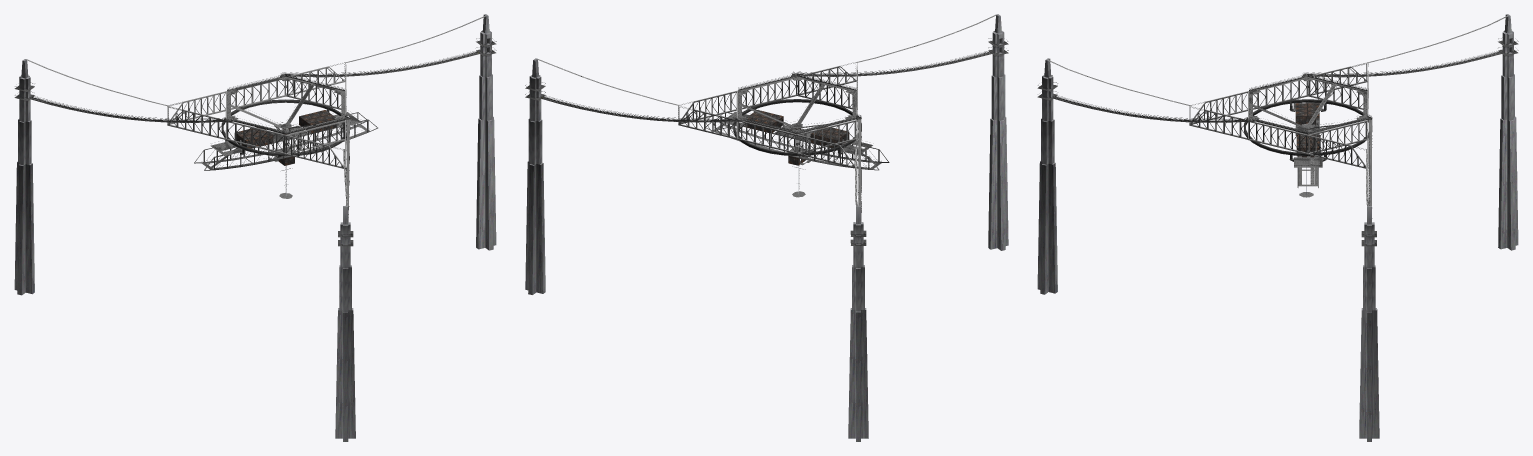
Rendered from cradle.glb.
3 views of the same model, side by side, from view 1: azimuth 30°, elevation 25°; view 2: azimuth 150°, elevation 25°; view 3: azimuth 270°, elevation 25° (orthographic).
Parts seen in each view (by area): view 1: primary_Room13, primary_Room14, primary_Room15, secondary_Room23, secondary_Room24, secondary_Room17, secondary_Room20, secondary_Room21, primary_Room0B, primary_Room0D, secondary_Room1E, secondary_Room1D (+2 smaller); view 2: primary_Room15, primary_Room13, primary_Room14, secondary_Room24, secondary_Room22, secondary_Room16, secondary_Room1D, secondary_Room1F, secondary_Room1C, secondary_Room20, primary_Room24, primary_Room0B (+2 smaller); view 3: primary_Room15, primary_Room14, primary_Room13, secondary_Room22, secondary_Room23, secondary_Room18, secondary_Room1F, secondary_Room1E, secondary_Room21, primary_Room0E, secondary_Room1C, primary_Room22 (+3 smaller).
Boxes of the visible parts, bbox=[...] form: primary_Room13: bbox=[476, 14, 496, 250]; primary_Room14: bbox=[14, 59, 34, 295]; primary_Room15: bbox=[335, 206, 355, 441]; secondary_Room23: bbox=[26, 59, 233, 122]; secondary_Room24: bbox=[279, 15, 485, 76]; secondary_Room17: bbox=[167, 93, 225, 138]; secondary_Room20: bbox=[286, 117, 344, 152]; secondary_Room21: bbox=[226, 119, 285, 152]; primary_Room0B: bbox=[234, 127, 273, 148]; primary_Room0D: bbox=[299, 110, 336, 133]; secondary_Room1E: bbox=[286, 75, 344, 107]; secondary_Room1D: bbox=[227, 75, 285, 106]; primary_Room15: bbox=[988, 14, 1008, 250]; primary_Room13: bbox=[525, 58, 545, 294]; primary_Room14: bbox=[848, 205, 868, 441]; secondary_Room24: bbox=[537, 59, 744, 121]; secondary_Room22: bbox=[791, 14, 996, 76]; secondary_Room16: bbox=[678, 92, 736, 138]; secondary_Room1D: bbox=[737, 119, 797, 152]; secondary_Room1F: bbox=[738, 75, 797, 106]; secondary_Room1C: bbox=[797, 117, 856, 152]; secondary_Room20: bbox=[797, 73, 856, 107]; primary_Room24: bbox=[541, 97, 744, 122]; primary_Room0B: bbox=[810, 126, 849, 147]; primary_Room15: bbox=[1037, 58, 1057, 294]; primary_Room14: bbox=[1498, 14, 1518, 250]; primary_Room13: bbox=[1359, 206, 1379, 441]; secondary_Room22: bbox=[1048, 60, 1255, 121]; secondary_Room23: bbox=[1302, 15, 1507, 76]; secondary_Room18: bbox=[1189, 93, 1247, 138]; secondary_Room1F: bbox=[1248, 119, 1307, 152]; secondary_Room1E: bbox=[1308, 117, 1367, 152]; secondary_Room21: bbox=[1249, 76, 1308, 106]; primary_Room0E: bbox=[1282, 150, 1334, 167]; secondary_Room1C: bbox=[1308, 74, 1366, 107]; primary_Room22: bbox=[1053, 96, 1255, 122].
Size of the model in its own units: 207 by 112 by 211.
Materials: 53 (52 with a texture image).
